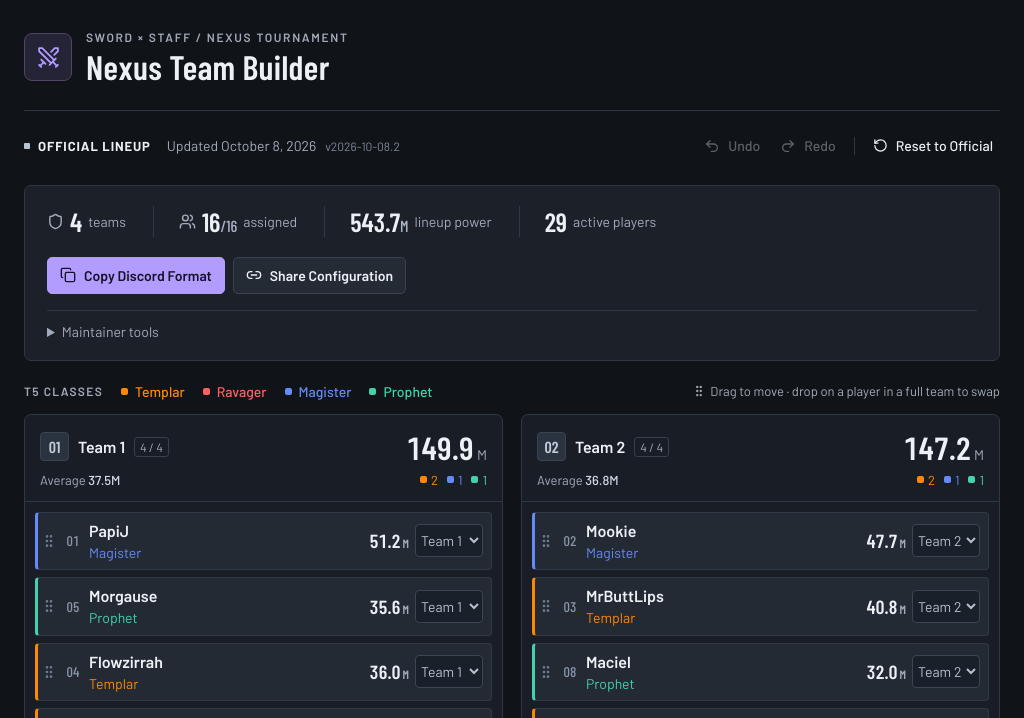
clipboard denial exposes selectable Discord export
The width and height of the screenshot is (1024, 718).
Click the button "Copy Discord Format" at point(136, 275), box [47,257,225,294]
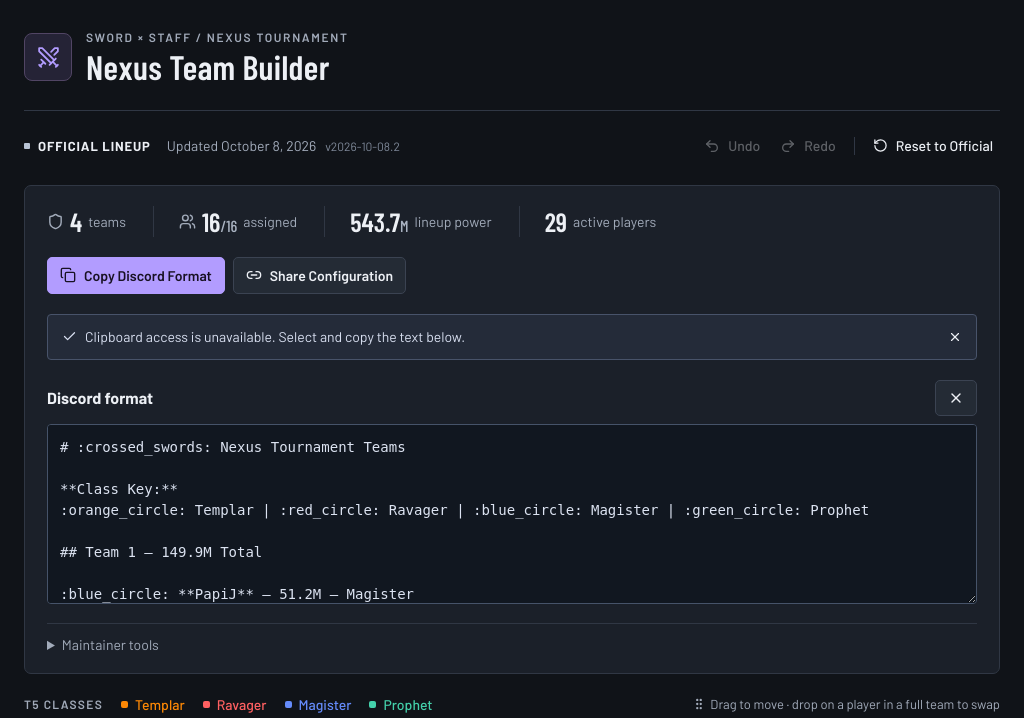
Expected: the text box named "Copy text manually" is shown, [47,424,977,604]
